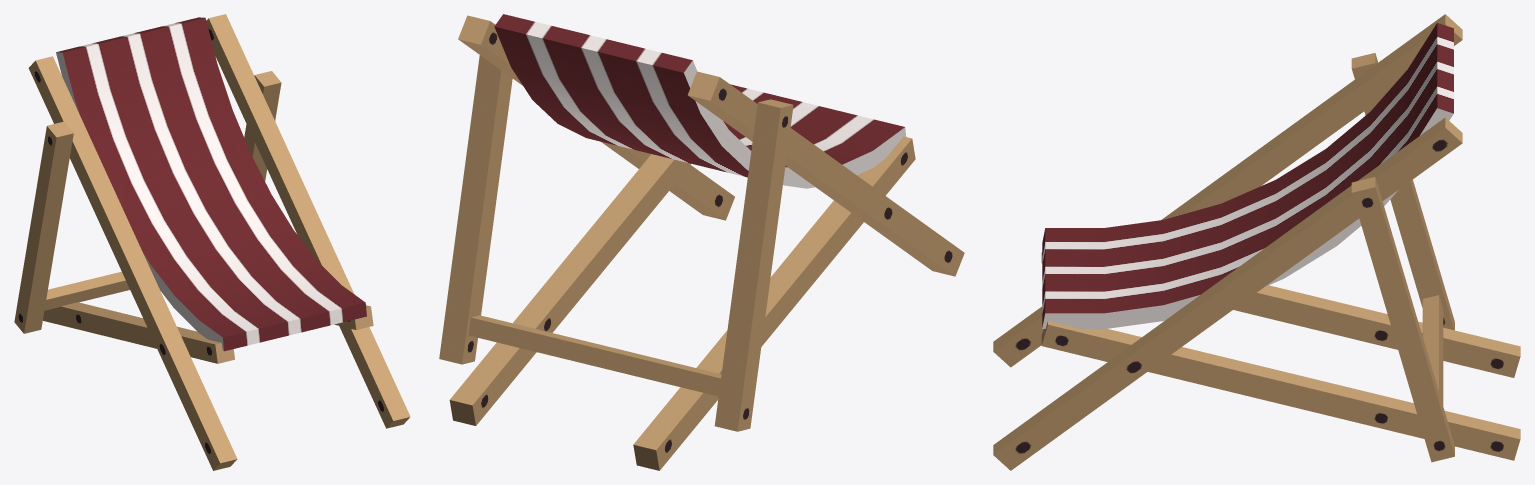
Rendered from Chair.fbx.
3 renders of one model, left to right at view 1: azimuth 30°, elevation 25°; view 2: azimuth 150°, elevation 25°; view 3: azimuth 270°, elevation 25°, orthographic. The views are drawn at different scales.
Visible parts, largest first — view 1: Beach Chair; view 2: Beach Chair; view 3: Beach Chair.
Part boxes in pixels (left/top/right/bottom): Beach Chair: left=14, top=14, right=410, bottom=470; Beach Chair: left=439, top=14, right=964, bottom=470; Beach Chair: left=993, top=14, right=1520, bottom=470.
Size of the model in its own units: 2.15 by 1.3 by 1.57.
1 material, 1 textured.
